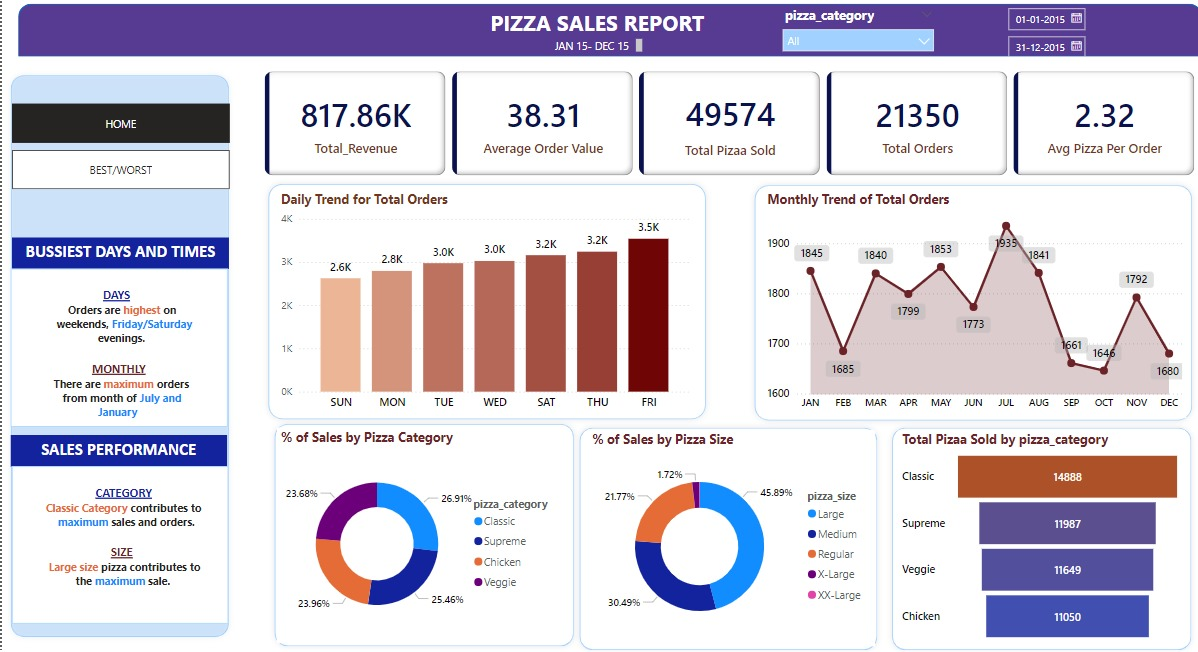

This screenshot's page, from the dashboard's own definition file:
{"tool":"powerbi","page":{"name":"HOME","canvas":[1500,820],"ordinal":0},"visuals":[{"type":"cardVisual","fields":{"Data":["pizza_sales.Total_Revenue","pizza_sales.Average Order Value","pizza_sales.Total Pizaa Sold","pizza_sales.Total Orders","pizza_sales.Avg Pizza Per Order"]},"box":[324,85,1176,140],"z":0},{"type":"shape","box":[20,4,1480,66],"z":1000},{"type":"textbox","box":[593.5,4.7,300.7,47.3],"z":2000},{"type":"textbox","box":[686,43.2,119.2,26.7],"z":3000},{"type":"shape","box":[325.7,222,562.7,310.2],"z":4000},{"type":"columnChart","title":"Daily Trend for Total Orders","fields":{"Category":["pizza_sales.1 Order Day"],"Y":["pizza_sales.Total Orders"]},"box":[343.7,237.8,521.4,284.3],"z":5000},{"type":"shape","box":[932.4,223.7,562.7,310.2],"z":6000},{"type":"areaChart","title":"Monthly Trend of Total Orders","fields":{"Category":["pizza_sales.Order Month"],"Y":["pizza_sales.Total Orders"]},"box":[951.1,237.3,528.8,284.7],"z":7000},{"type":"shape","box":[332.4,522,390,294],"z":8000},{"type":"shape","box":[714.4,526,388,294],"z":9000},{"type":"shape","box":[1104,526,390,294],"z":10000},{"type":"donutChart","title":"% of Sales by Pizza Category","fields":{"Category":["pizza_sales.pizza_category"],"Y":["pizza_sales.Total_Revenue"]},"box":[344.3,533.9,359.3,269.5],"z":11000},{"type":"donutChart","title":"% of Sales by Pizza Size","fields":{"Category":["pizza_sales.pizza_size"],"Y":["pizza_sales.Total_Revenue"]},"box":[732.1,537.5,358.8,270],"z":12000},{"type":"funnel","fields":{"Category":["pizza_sales.pizza_category"],"Y":["pizza_sales.Total Pizaa Sold"]},"box":[1120.9,537.5,358.8,270],"z":13000},{"type":"shape","box":[3.9,85.7,288.3,718.2],"z":14000},{"type":"textbox","box":[11.8,297.3,270.9,39.1],"z":15000},{"type":"textbox","box":[11.7,336.4,271.4,197.4],"z":16000},{"type":"textbox","box":[11.7,544.2,270.1,39],"z":17000},{"type":"textbox","box":[12.1,582.8,270.7,196.6],"z":18000},{"type":"slicer","fields":{"Values":["pizza_sales.pizza_category"]},"box":[966.4,3.6,209.1,66.4],"z":19000},{"type":"slicer","fields":{"Values":["pizza_sales.order_date"]},"box":[1244.5,0,178.2,70],"z":20000},{"type":"pageNavigator","box":[11.8,130,272.7,50],"z":21000},{"type":"pageNavigator","box":[12.7,188.2,272.7,50],"z":22000}]}

Visuals, with their boxes in screenshot pixels (x1, y1, x2, y2), scaled from the page's 1500x820 canvas onto the 1198x652 screenshot:
cardVisual - pizza_sales.Total_Revenue x pizza_sales.Average Order Value: region(259, 68, 1197, 179)
shape: region(16, 3, 1197, 56)
textbox: region(474, 4, 714, 41)
textbox: region(548, 34, 643, 56)
shape: region(260, 177, 710, 423)
"Daily Trend for Total Orders" columnChart: region(275, 189, 691, 415)
shape: region(745, 178, 1194, 425)
"Monthly Trend of Total Orders" areaChart: region(760, 189, 1182, 415)
shape: region(265, 415, 577, 649)
shape: region(571, 418, 880, 651)
shape: region(882, 418, 1193, 651)
"% of Sales by Pizza Category" donutChart: region(275, 425, 562, 639)
"% of Sales by Pizza Size" donutChart: region(585, 427, 871, 642)
funnel - pizza_sales.pizza_category x pizza_sales.Total Pizaa Sold: region(895, 427, 1182, 642)
shape: region(3, 68, 233, 639)
textbox: region(9, 236, 226, 267)
textbox: region(9, 267, 226, 424)
textbox: region(9, 433, 225, 464)
textbox: region(10, 463, 226, 620)
slicer - pizza_sales.pizza_category: region(772, 3, 939, 56)
slicer - pizza_sales.order_date: region(994, 0, 1136, 56)
pageNavigator: region(9, 103, 227, 143)
pageNavigator: region(10, 150, 228, 189)
